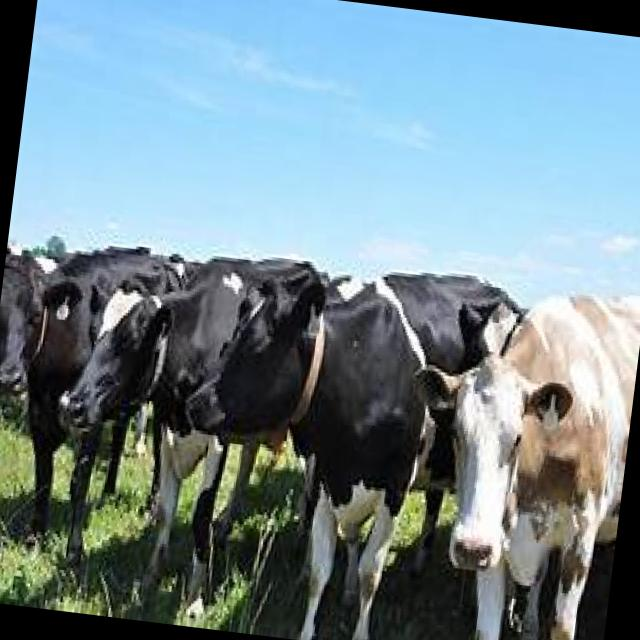cow: (383, 270, 640, 640)
